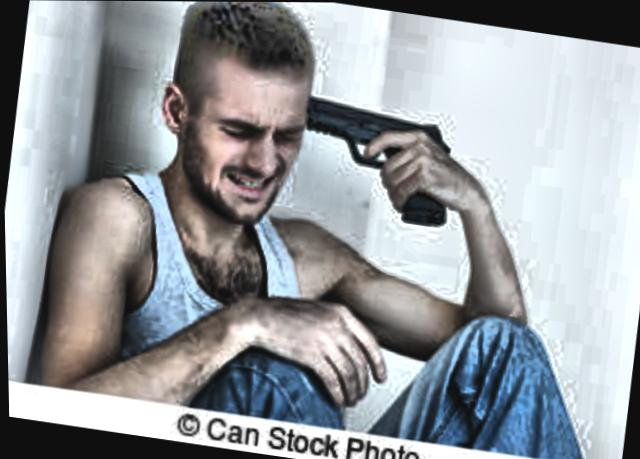pistol: (287, 86, 456, 225)
